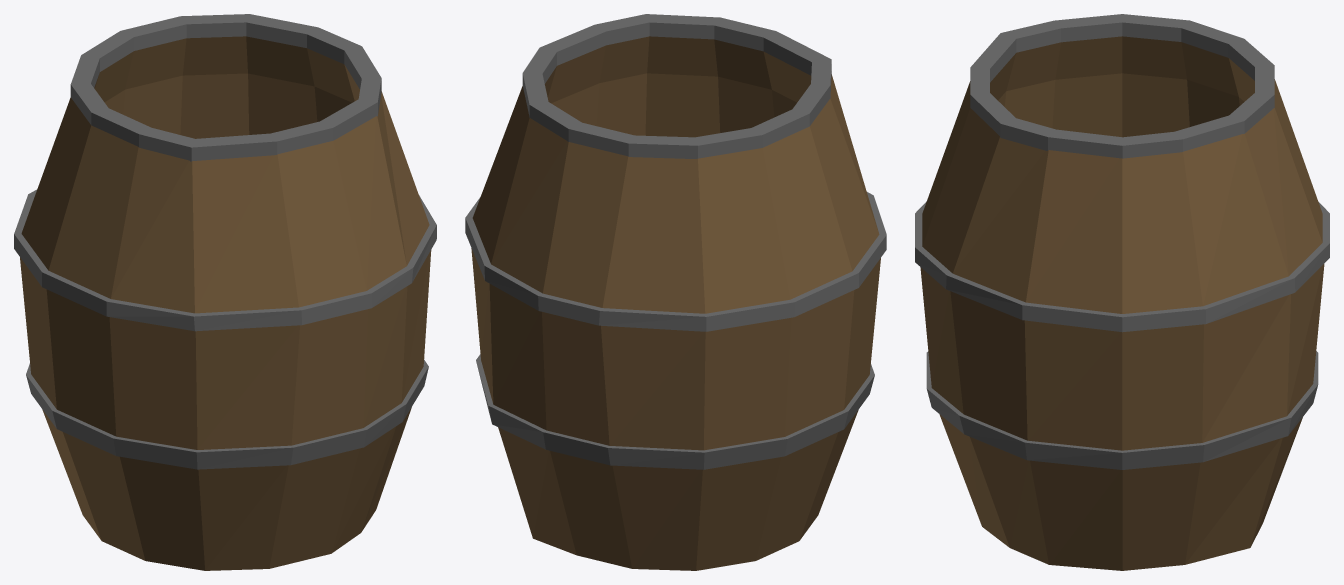
File: Fass.fbx
3 views of the same model, side by side, from view 1: azimuth 30°, elevation 25°; view 2: azimuth 150°, elevation 25°; view 3: azimuth 270°, elevation 25° (orthographic).
Parts seen in each view (by area): view 1: Zylinder; view 2: Zylinder; view 3: Zylinder.
Part boxes in pixels (x1,y1,x2,y2): Zylinder: (14, 14, 436, 570); Zylinder: (465, 14, 886, 570); Zylinder: (915, 14, 1329, 570).
Size of the model in its own units: 256 by 286 by 250.
